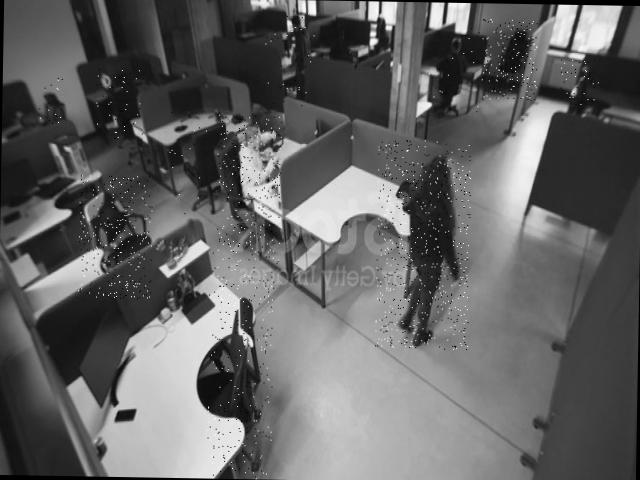empty chair: (206, 252, 275, 479), (78, 175, 153, 299), (168, 109, 219, 228), (482, 19, 538, 101), (96, 68, 144, 142), (558, 59, 599, 108), (36, 76, 64, 126)
occupiedchair: (217, 114, 282, 264), (428, 24, 479, 117), (262, 32, 316, 108)
